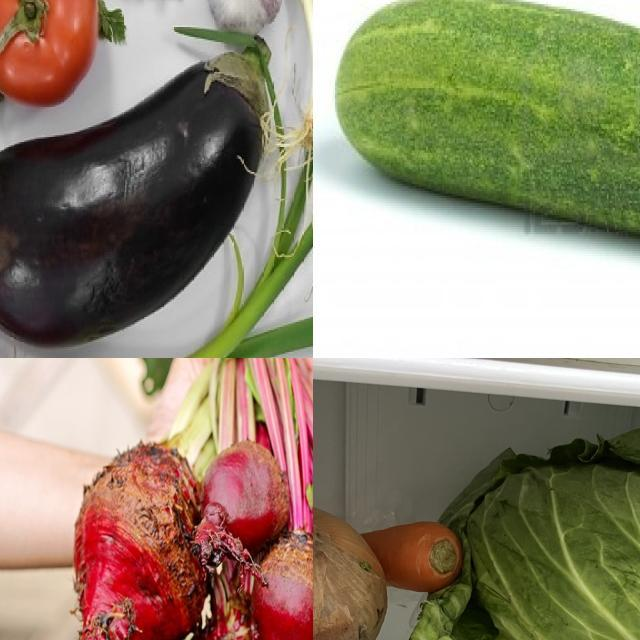beet: (75, 444, 201, 640), (209, 445, 291, 543), (253, 543, 314, 640)
cabbage: (406, 409, 640, 640)
carrot: (359, 519, 468, 597)
cucumber: (329, 1, 640, 272)
eggplant: (1, 56, 274, 345)
garlic: (205, 1, 287, 32)
onion: (314, 497, 392, 640)
tomato: (1, 1, 97, 104)
